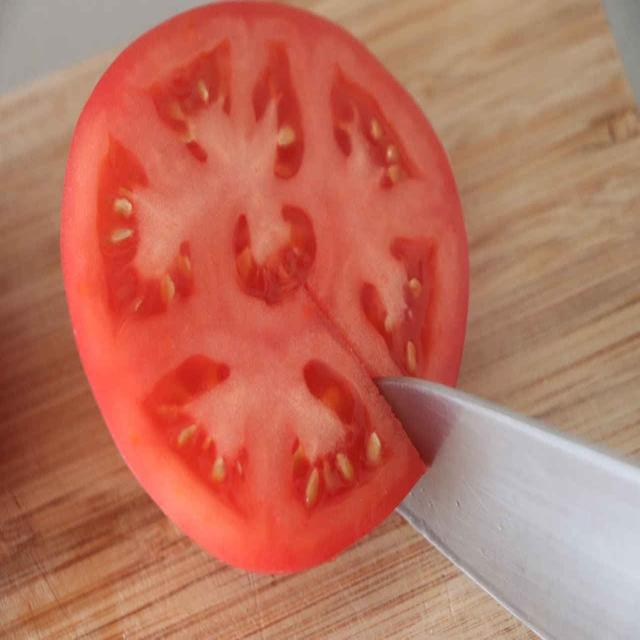Tomato: (54, 0, 476, 582)
